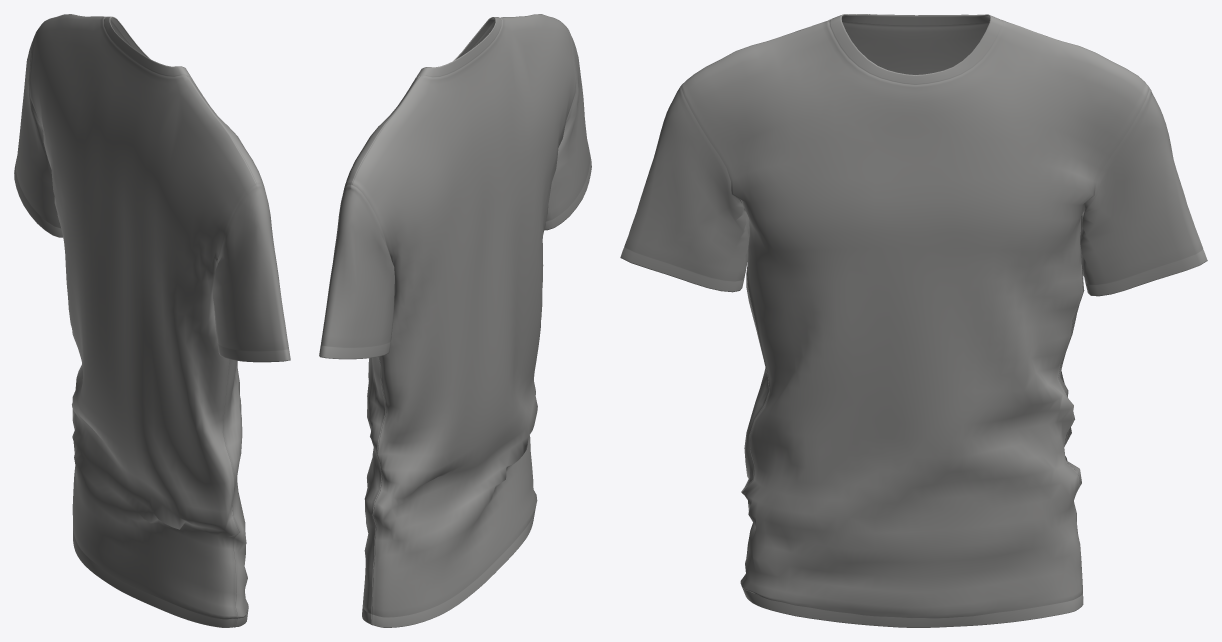
File: T_Shirt_male169.fbx
The picture shows the model from 3 angles, left to right: view 1: azimuth 30°, elevation 25°; view 2: azimuth 150°, elevation 25°; view 3: azimuth 270°, elevation 25°; orthographic projection. The views are drawn at different scales.
Parts seen in each view (by area): view 1: T_Shirt_male169; view 2: T_Shirt_male169; view 3: T_Shirt_male169.
Part boxes in pixels (x1,y1,x2,y2): T_Shirt_male169: (14, 14, 290, 627); T_Shirt_male169: (319, 14, 591, 627); T_Shirt_male169: (620, 14, 1207, 627).
Bounding box in the file's own units: 3.39 × 21.2 × 19.1.
